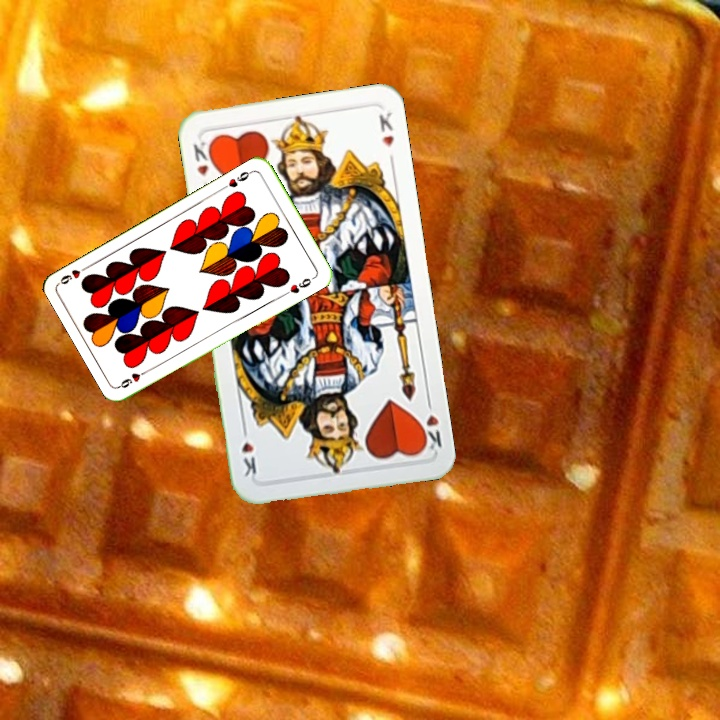H9: (219, 166, 256, 192), (116, 365, 153, 391)
HK: (415, 394, 445, 455), (189, 137, 217, 194)
